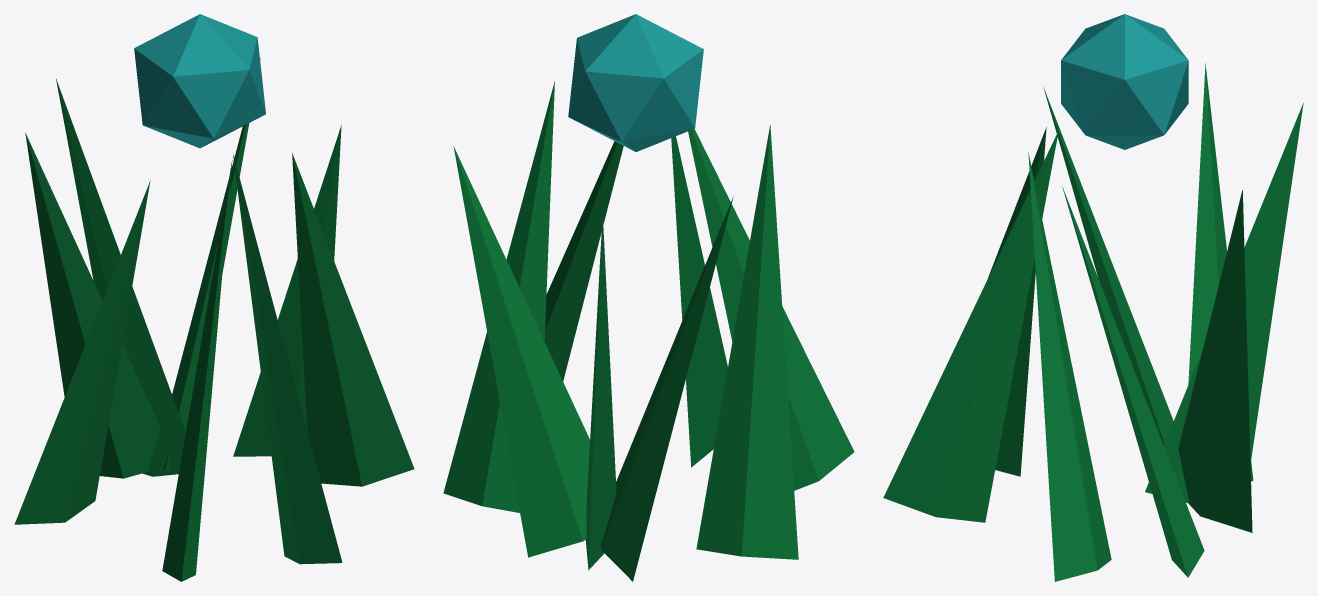
Rendered from Prop_OR_Herb_17.glb.
3 renders of one model, left to right at view 1: azimuth 30°, elevation 25°; view 2: azimuth 150°, elevation 25°; view 3: azimuth 270°, elevation 25°, orthographic. The views are drawn at different scales.
Parts seen in each view (by area): view 1: Prop_OR_Herb_17; view 2: Prop_OR_Herb_17; view 3: Prop_OR_Herb_17.
Part boxes in pixels (left/top/right/bottom): Prop_OR_Herb_17: left=14, top=14, right=414, bottom=581; Prop_OR_Herb_17: left=443, top=14, right=854, bottom=581; Prop_OR_Herb_17: left=883, top=14, right=1303, bottom=581.
Bounding box in the file's own units: 0.3737 × 0.5029 × 0.3824.
